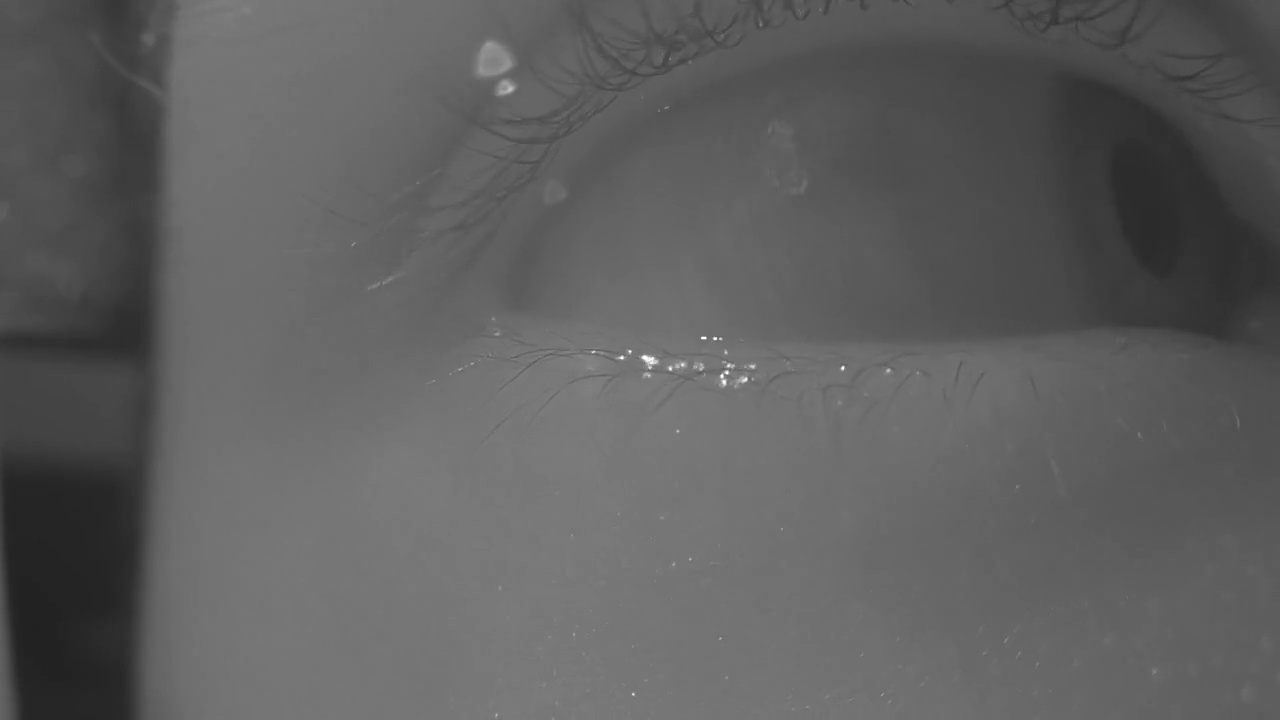pupil: (1110, 135, 1186, 279)
